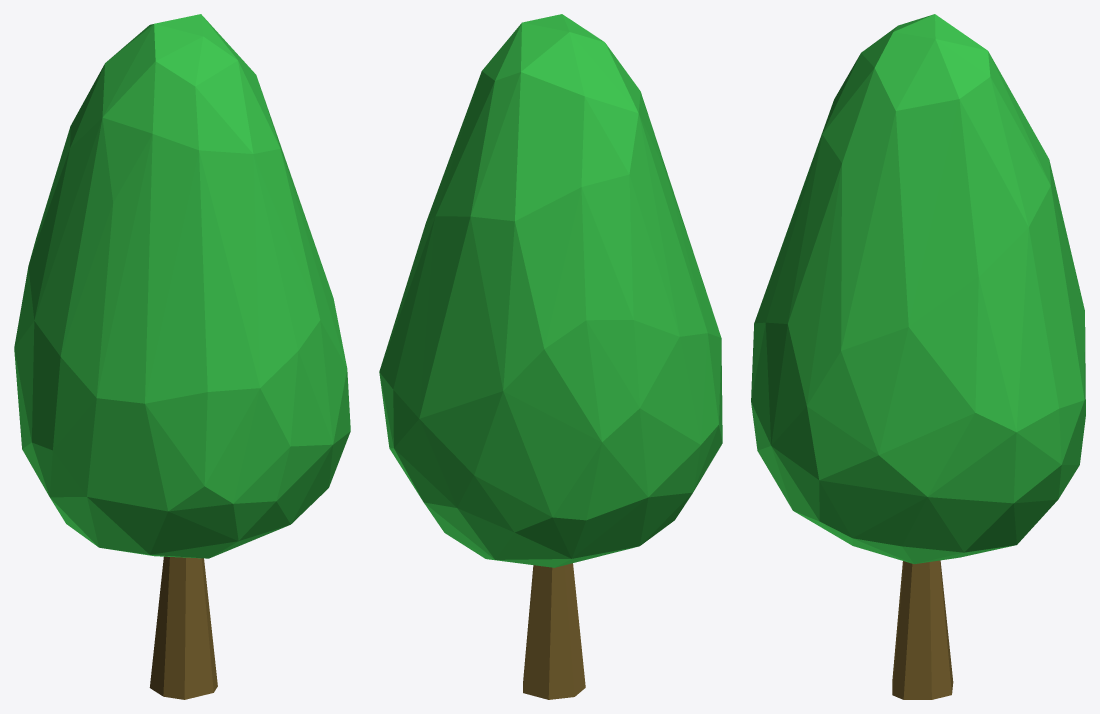
Rendered from PoplarTree.fbx.
3 views of the same model, side by side, from view 1: azimuth 30°, elevation 25°; view 2: azimuth 150°, elevation 25°; view 3: azimuth 270°, elevation 25° (orthographic).
Parts seen in each view (by area): view 1: PoplarTree; view 2: PoplarTree; view 3: PoplarTree.
Part boxes in pixels (left/top/right/bottom): PoplarTree: left=14, top=14, right=350, bottom=699; PoplarTree: left=379, top=14, right=722, bottom=699; PoplarTree: left=751, top=14, right=1085, bottom=699.
Size of the model in its own units: 1360 by 2999 by 1374.
